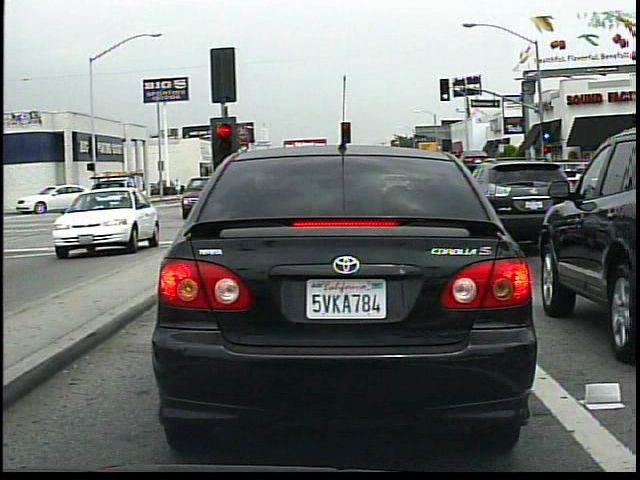person: (174, 176, 184, 198)
